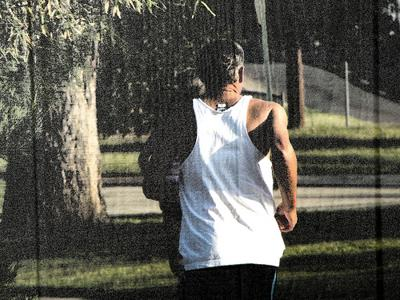person: (144, 37, 301, 300)
